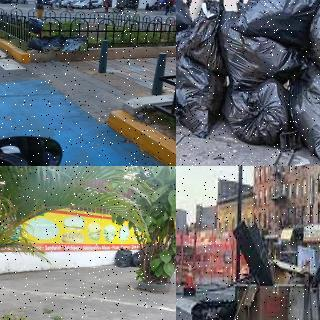Garbage: (219, 72, 297, 148), (176, 40, 226, 141), (231, 0, 320, 49), (282, 54, 320, 166), (176, 0, 226, 74), (60, 35, 88, 53), (27, 37, 51, 52), (115, 247, 133, 267), (43, 36, 64, 52), (131, 251, 145, 268), (29, 18, 43, 34)
